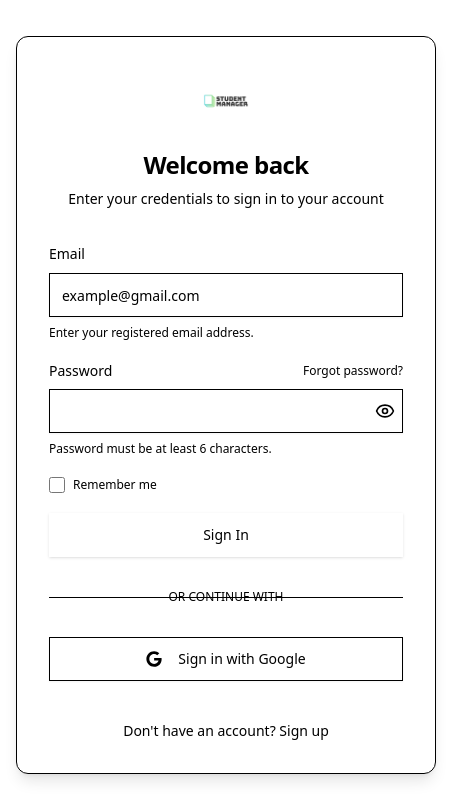
Test: LoginPage › shows error when Google sign-in fails
Click the button "Sign in with Google": [226, 659] box x1=49 y1=637 x2=403 y2=681
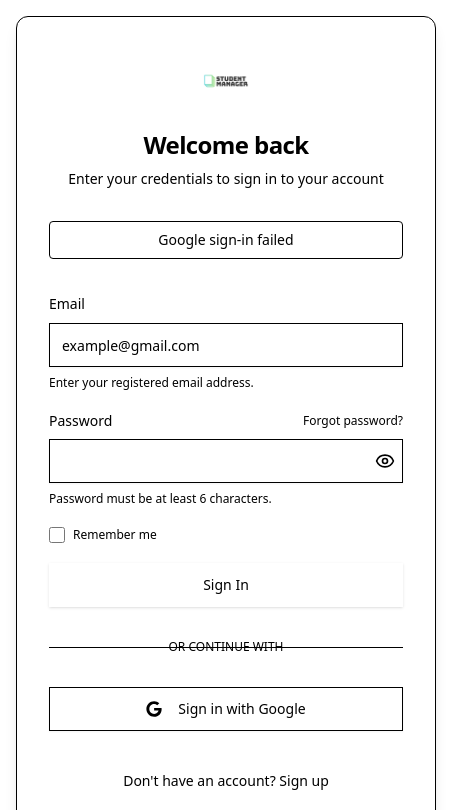
Result: the text "Google sign-in failed" is shown at x1=49 y1=221 x2=403 y2=259
